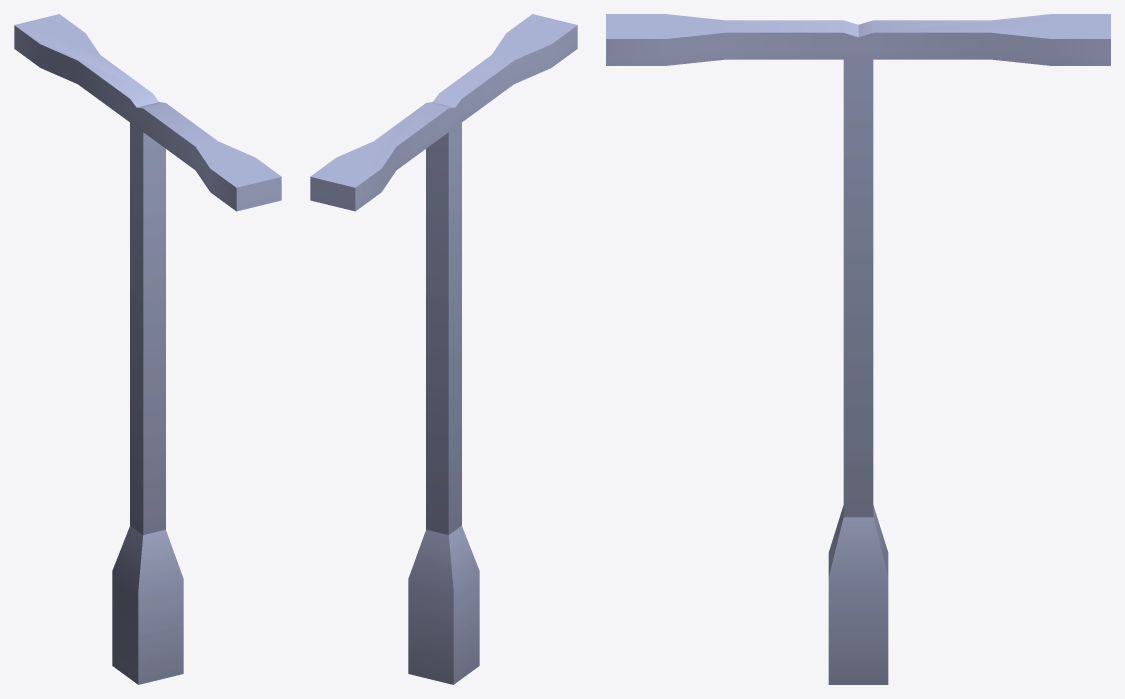
Rendered from light-square-double.glb.
3 renders of one model, left to right at view 1: azimuth 30°, elevation 25°; view 2: azimuth 150°, elevation 25°; view 3: azimuth 270°, elevation 25°, orthographic. The views are drawn at different scales.
Parts seen in each view (by area): view 1: light-square-double; view 2: light-square-double; view 3: light-square-double.
Boxes of the visible parts, left/top/right/bottom form: light-square-double: left=14, top=14, right=281, bottom=684; light-square-double: left=310, top=14, right=577, bottom=684; light-square-double: left=606, top=14, right=1110, bottom=684.
Size of the model in its own units: 0.05 by 0.6 by 0.425.
1 material, 1 textured.
